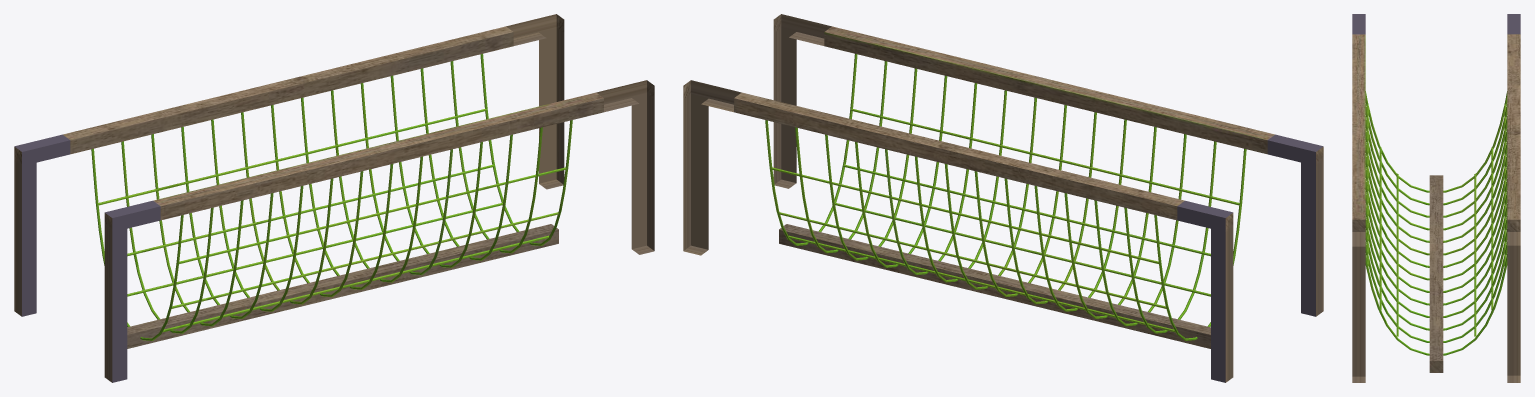
The model's file is rope_bridge.glb.
The picture shows the model from 3 angles, left to right: view 1: azimuth 30°, elevation 25°; view 2: azimuth 150°, elevation 25°; view 3: azimuth 270°, elevation 25°; orthographic projection. The views are drawn at different scales.
Parts seen in each view (by area): view 1: 1_Rope_LP; view 2: 1_Rope_LP; view 3: 1_Rope_LP.
Boxes of the visible parts, left/top/right/bottom form: 1_Rope_LP: left=14, top=14, right=654, bottom=382; 1_Rope_LP: left=683, top=14, right=1323, bottom=382; 1_Rope_LP: left=1352, top=14, right=1520, bottom=382.
Size of the model in its own units: 4.3 by 1.35 by 1.35.
1 material, 1 textured.
